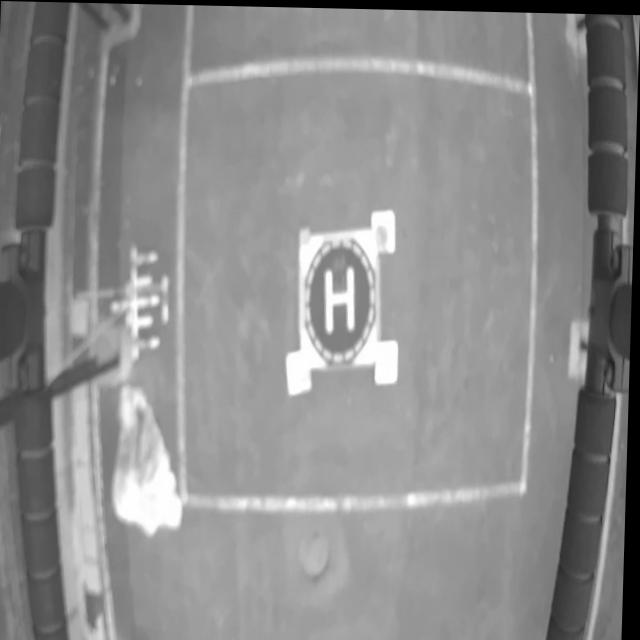Helipad: (326, 261, 357, 330)
